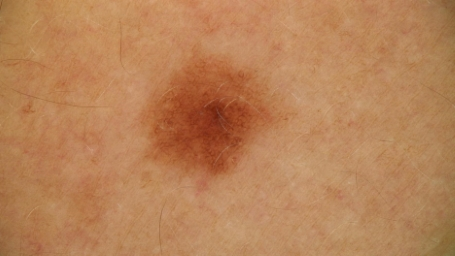melanoma: (148, 58, 264, 167)
